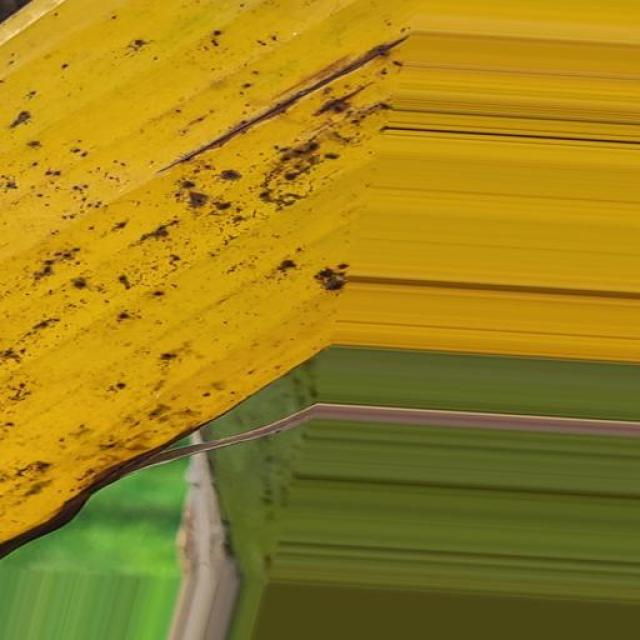Cordana: (4, 1, 640, 561)
